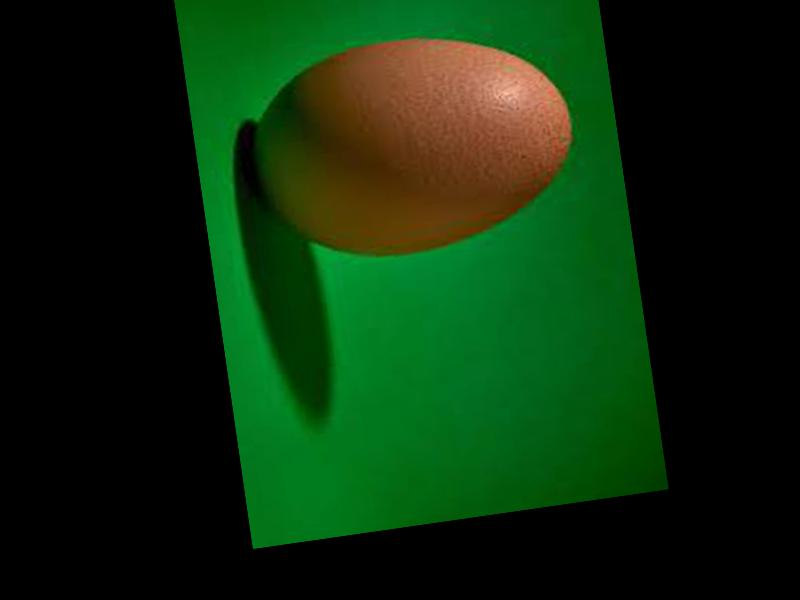Eggs: (238, 16, 584, 273)
